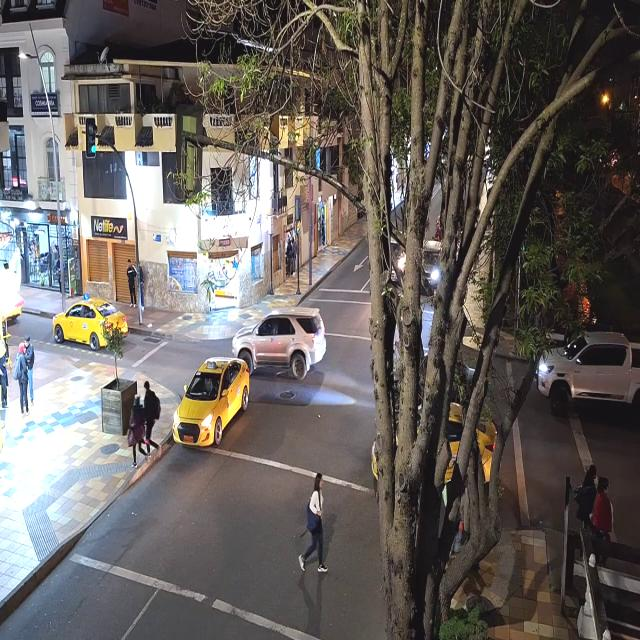CMT: (535, 332, 640, 408)
SED: (175, 358, 243, 444), (54, 306, 128, 347)
SUV: (236, 308, 326, 373)
